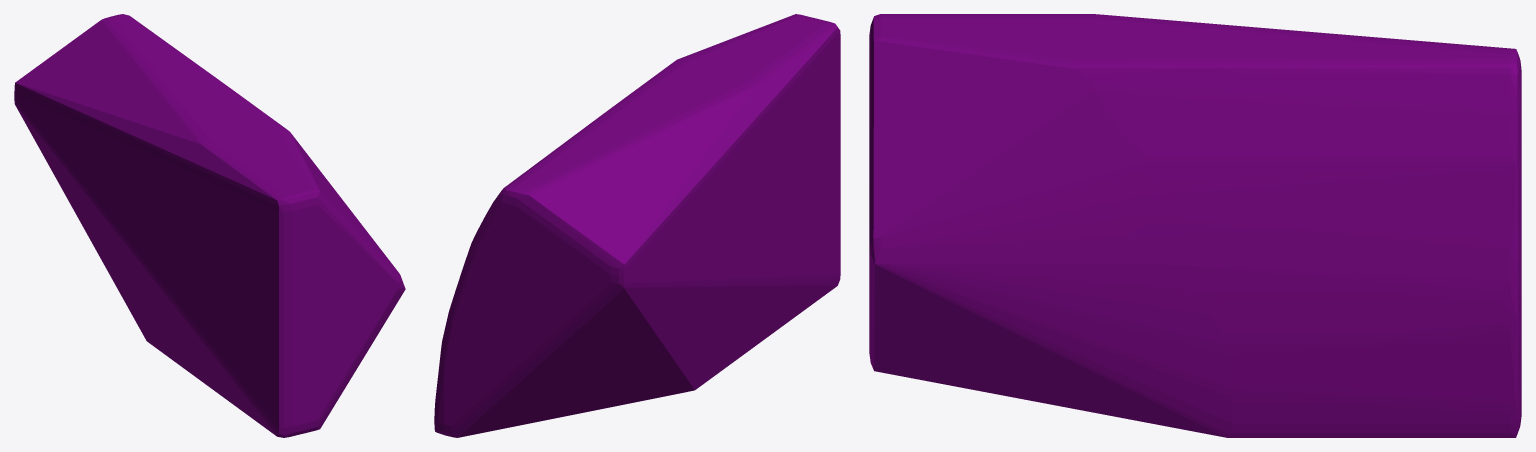
The model's file is left_shoulder_roll_link_part_11.obj.
The picture shows the model from 3 angles, left to right: view 1: azimuth 30°, elevation 25°; view 2: azimuth 150°, elevation 25°; view 3: azimuth 270°, elevation 25°; orthographic projection. The views are drawn at different scales.
Bounding box in the file's own units: 0.019 × 0.0249 × 0.0442.
